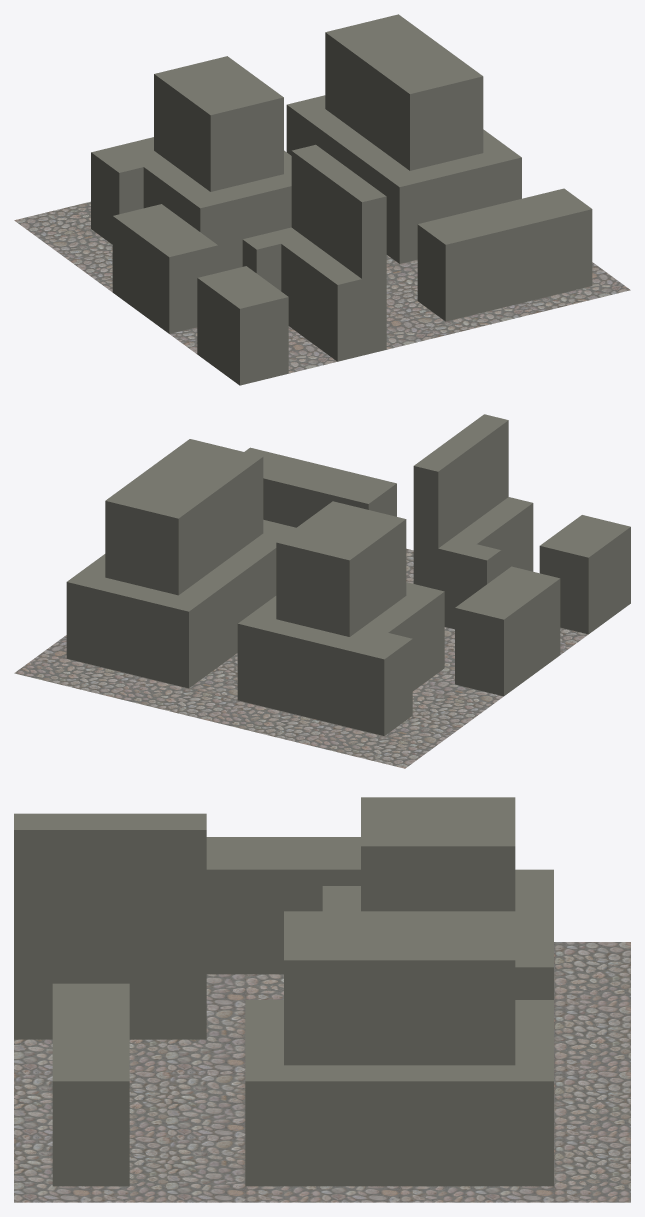
File: tile2.fbx
3 views of the same model, one above another, from view 1: azimuth 30°, elevation 25°; view 2: azimuth 150°, elevation 25°; view 3: azimuth 270°, elevation 25° (orthographic). The views are drawn at different scales.
Visible parts, largest first — view 1: Tile2; view 2: Tile2; view 3: Tile2.
Boxes of the visible parts, left/top/right/bottom form: Tile2: left=14, top=14, right=630, bottom=385; Tile2: left=14, top=414, right=630, bottom=768; Tile2: left=14, top=797, right=630, bottom=1202.
Size of the model in its own units: 1600 by 600 by 1600.
